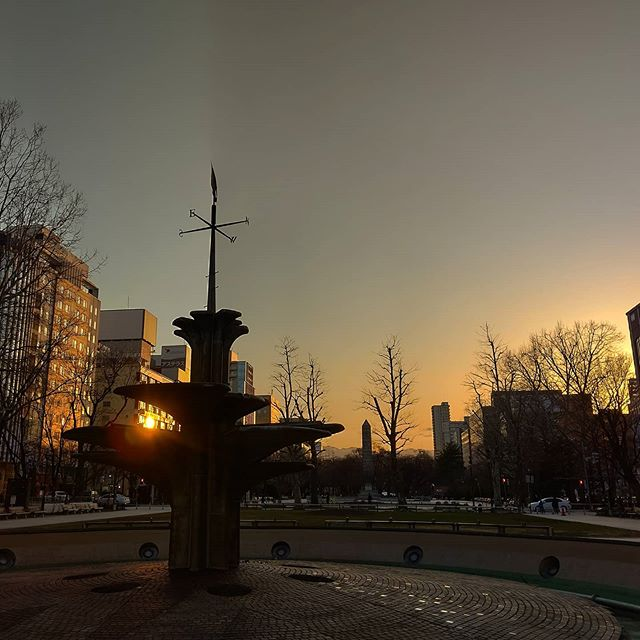building: (1, 222, 101, 486), (99, 321, 191, 479)
sky: (109, 1, 640, 299)
